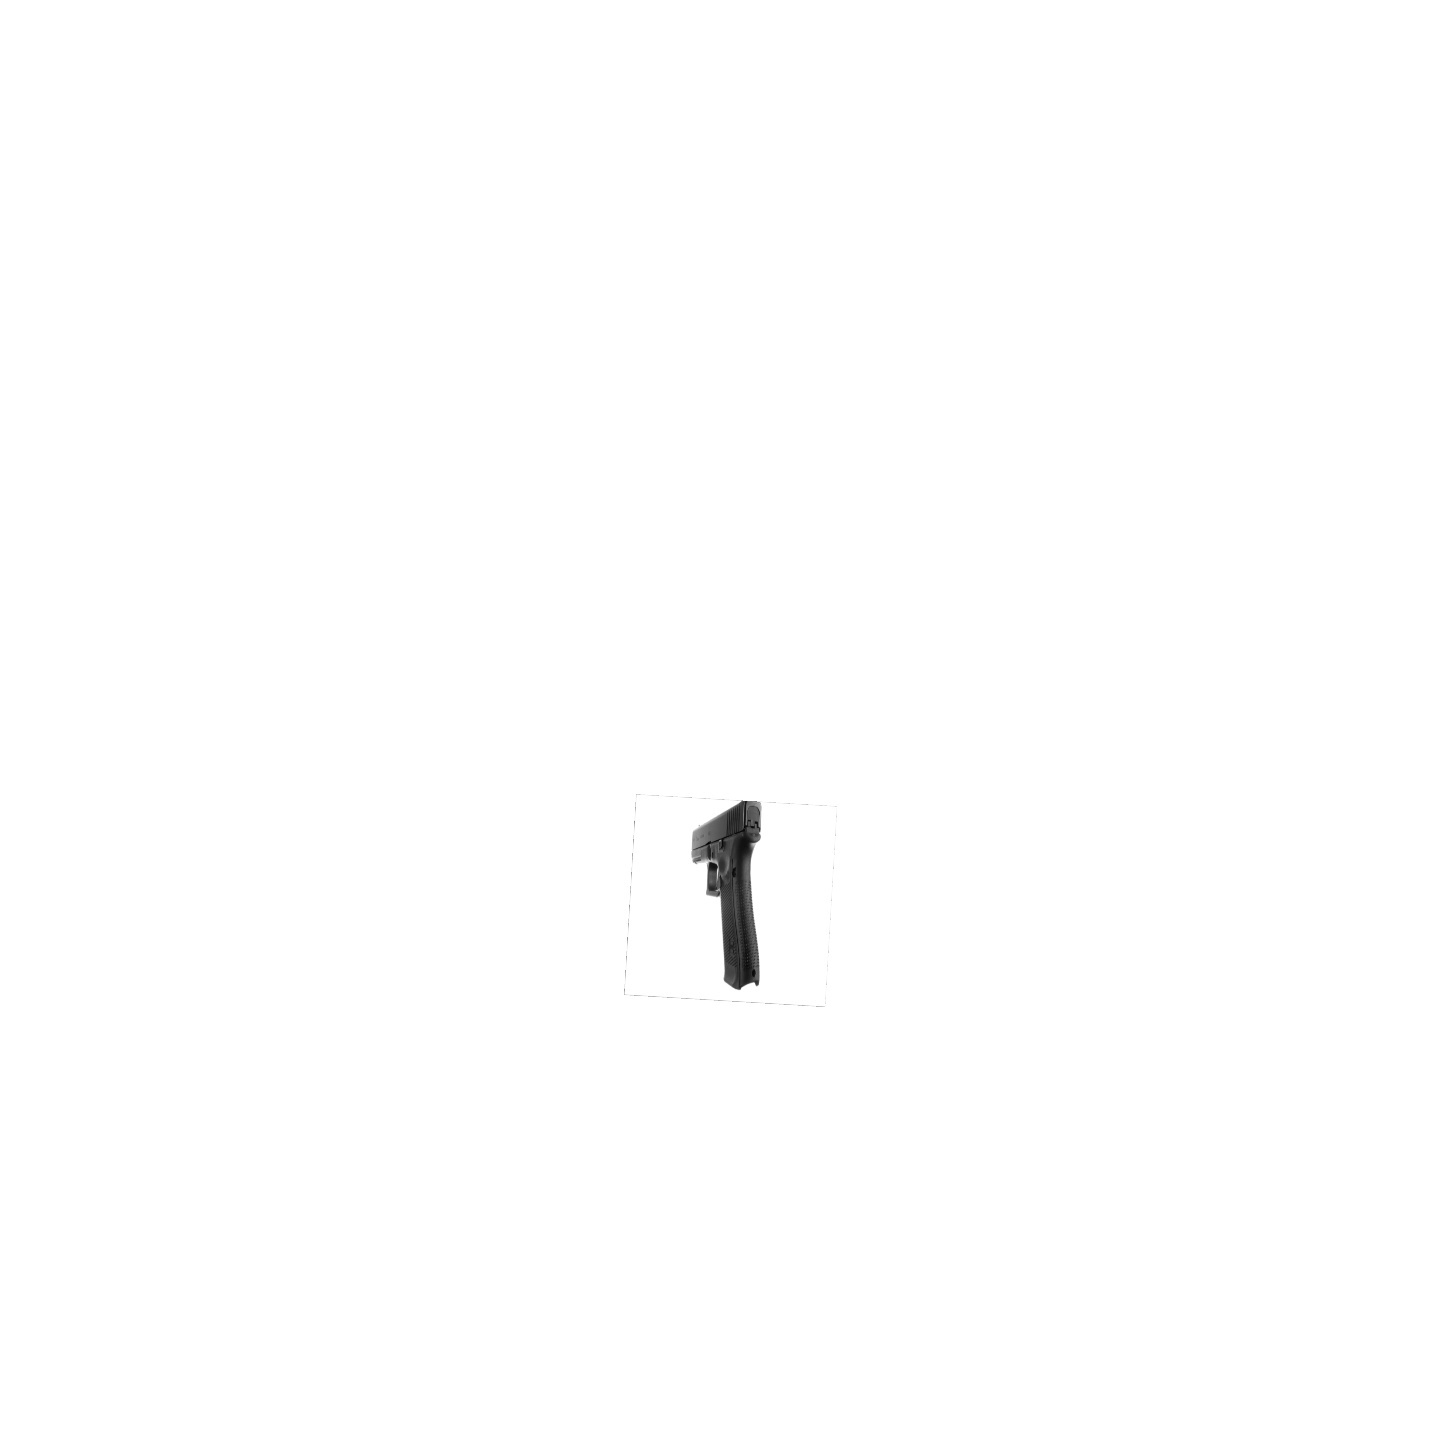gun: (690, 801, 762, 990)
